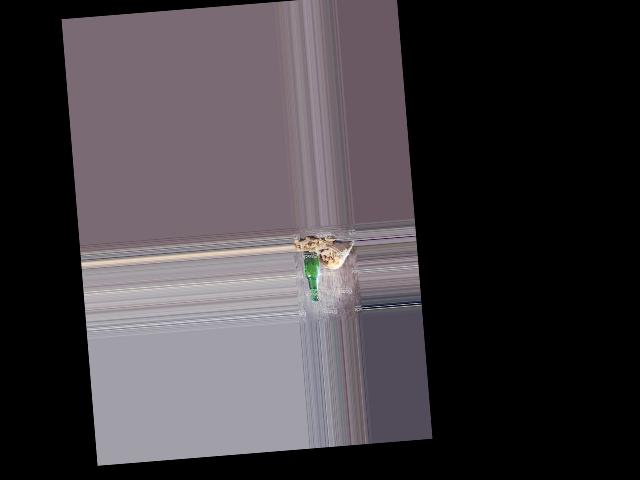beer: (302, 246, 322, 303)
